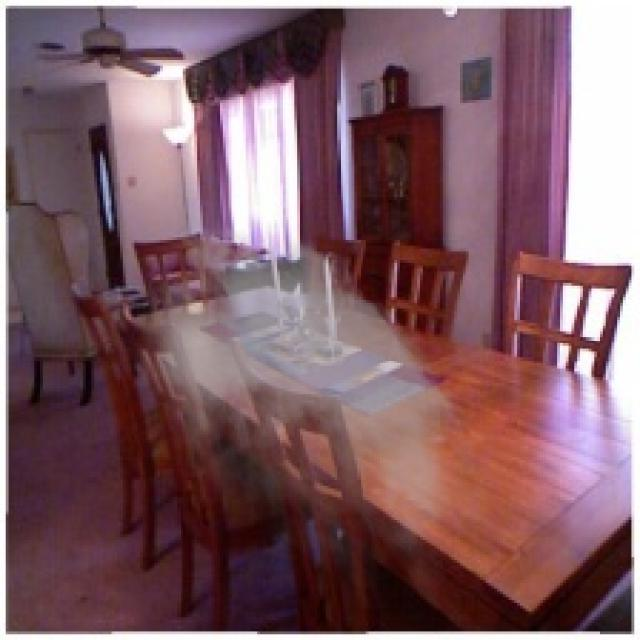smoke: (117, 212, 500, 608)
